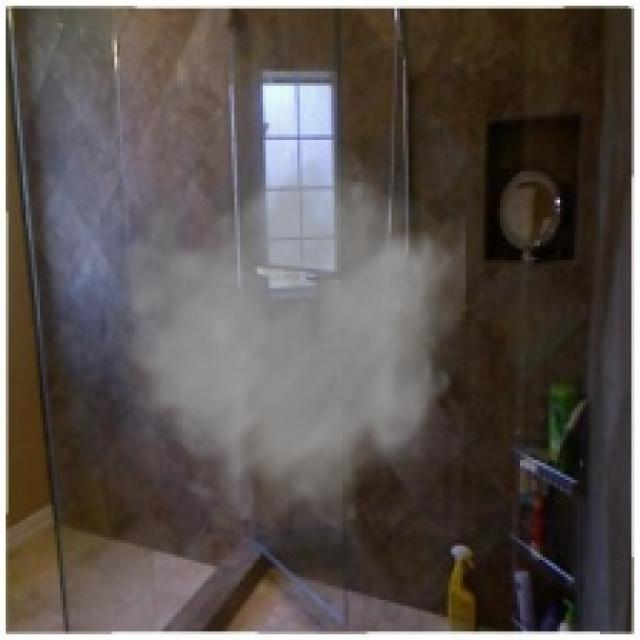smoke: (86, 149, 466, 537)
